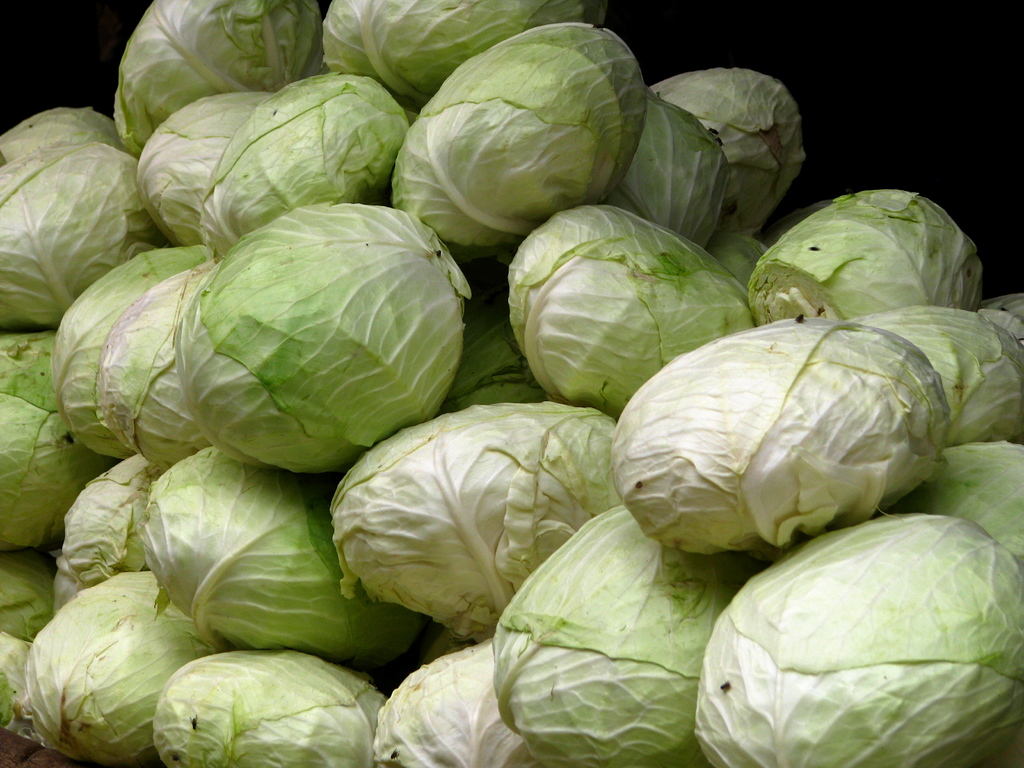Cabbage: (0, 0, 1023, 767)
